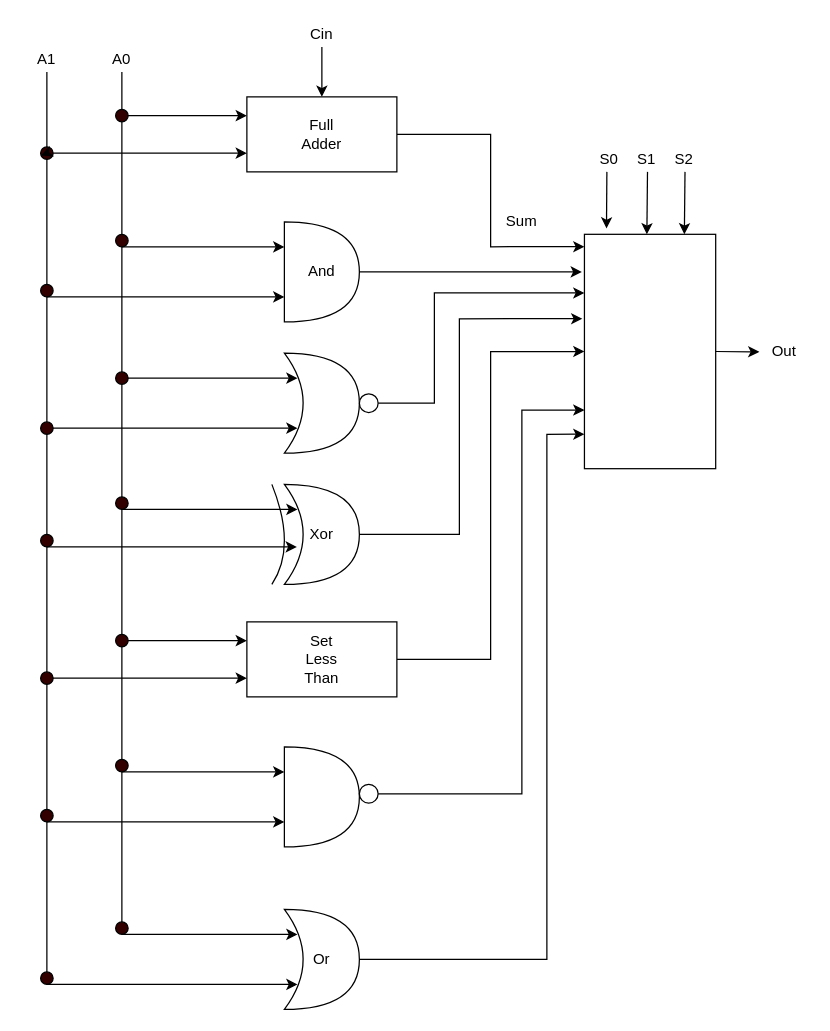
This 830x1031 diagram has some shape labels left out. Each missing label, with the centre of its shape:
7:1 Mux: point (649, 351)
Nand: point (321, 796)
Nor: point (321, 402)
